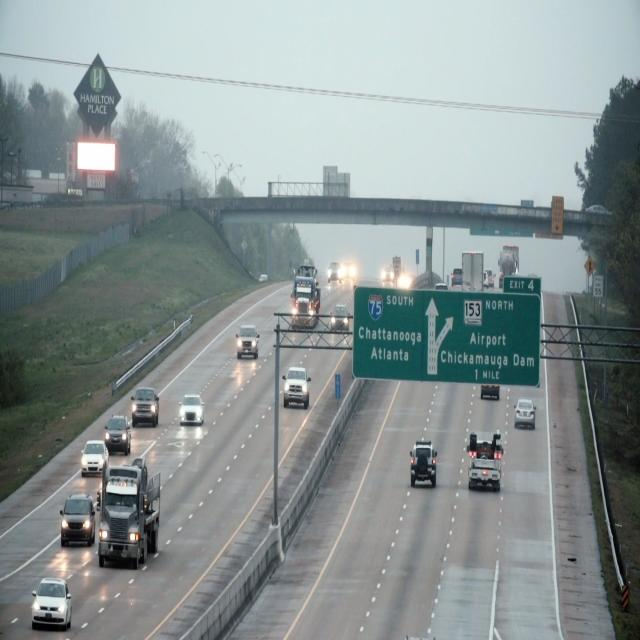Car: (101, 467, 163, 564), (32, 570, 73, 632), (468, 427, 504, 493), (60, 491, 96, 556), (292, 262, 322, 336), (409, 438, 438, 491), (80, 433, 110, 477), (132, 387, 160, 430), (283, 367, 312, 407), (105, 416, 134, 455), (178, 390, 204, 431), (512, 395, 537, 431), (328, 301, 350, 339), (236, 327, 261, 360)
